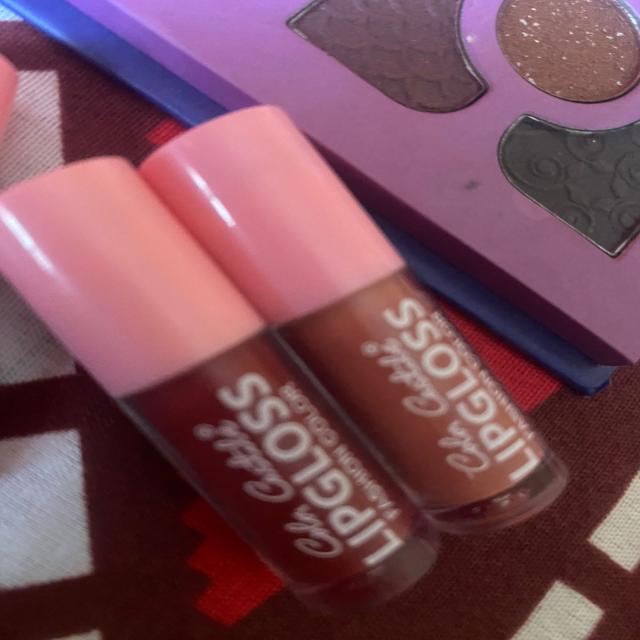eye shade: (284, 3, 498, 115), (502, 105, 640, 267), (462, 0, 639, 112)
lip gloss: (4, 142, 450, 623), (118, 100, 585, 530)
